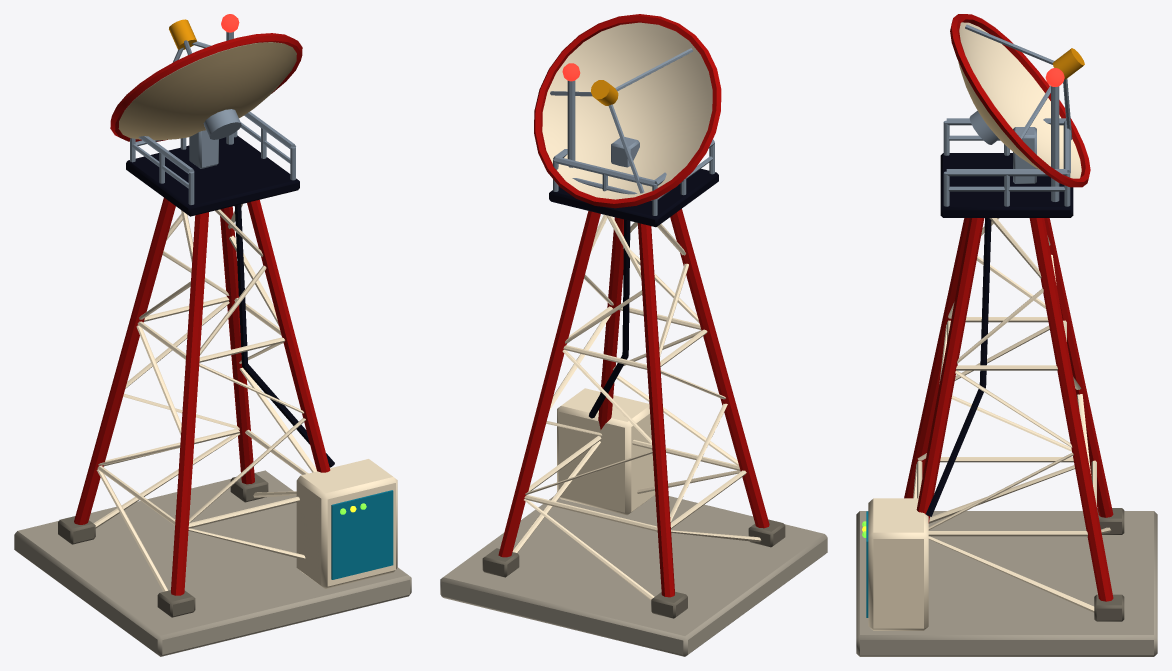
File: GpsTower.fbx
3 renders of one model, left to right at view 1: azimuth 30°, elevation 25°; view 2: azimuth 150°, elevation 25°; view 3: azimuth 270°, elevation 25°, orthographic. The views are drawn at different scales.
Parts seen in each view (by area): view 1: GpsTower; view 2: GpsTower; view 3: GpsTower.
Boxes of the visible parts, <box> form: GpsTower: <box>14,14,411,656</box>; GpsTower: <box>440,14,827,656</box>; GpsTower: <box>856,14,1157,656</box>.
Bounding box in the file's own units: 5 × 10.42 × 5.
